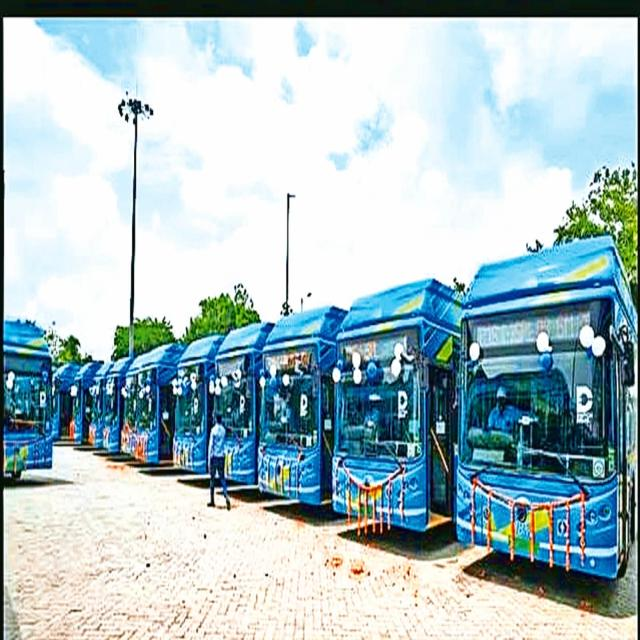bus: (456, 238, 636, 579), (332, 280, 461, 531), (258, 307, 346, 504), (4, 320, 52, 478)
